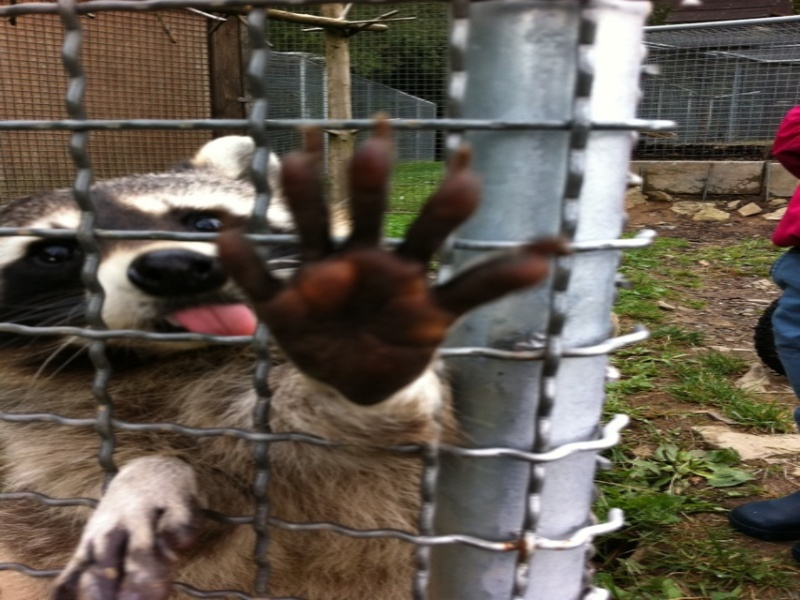raccoon: (1, 109, 494, 599)
